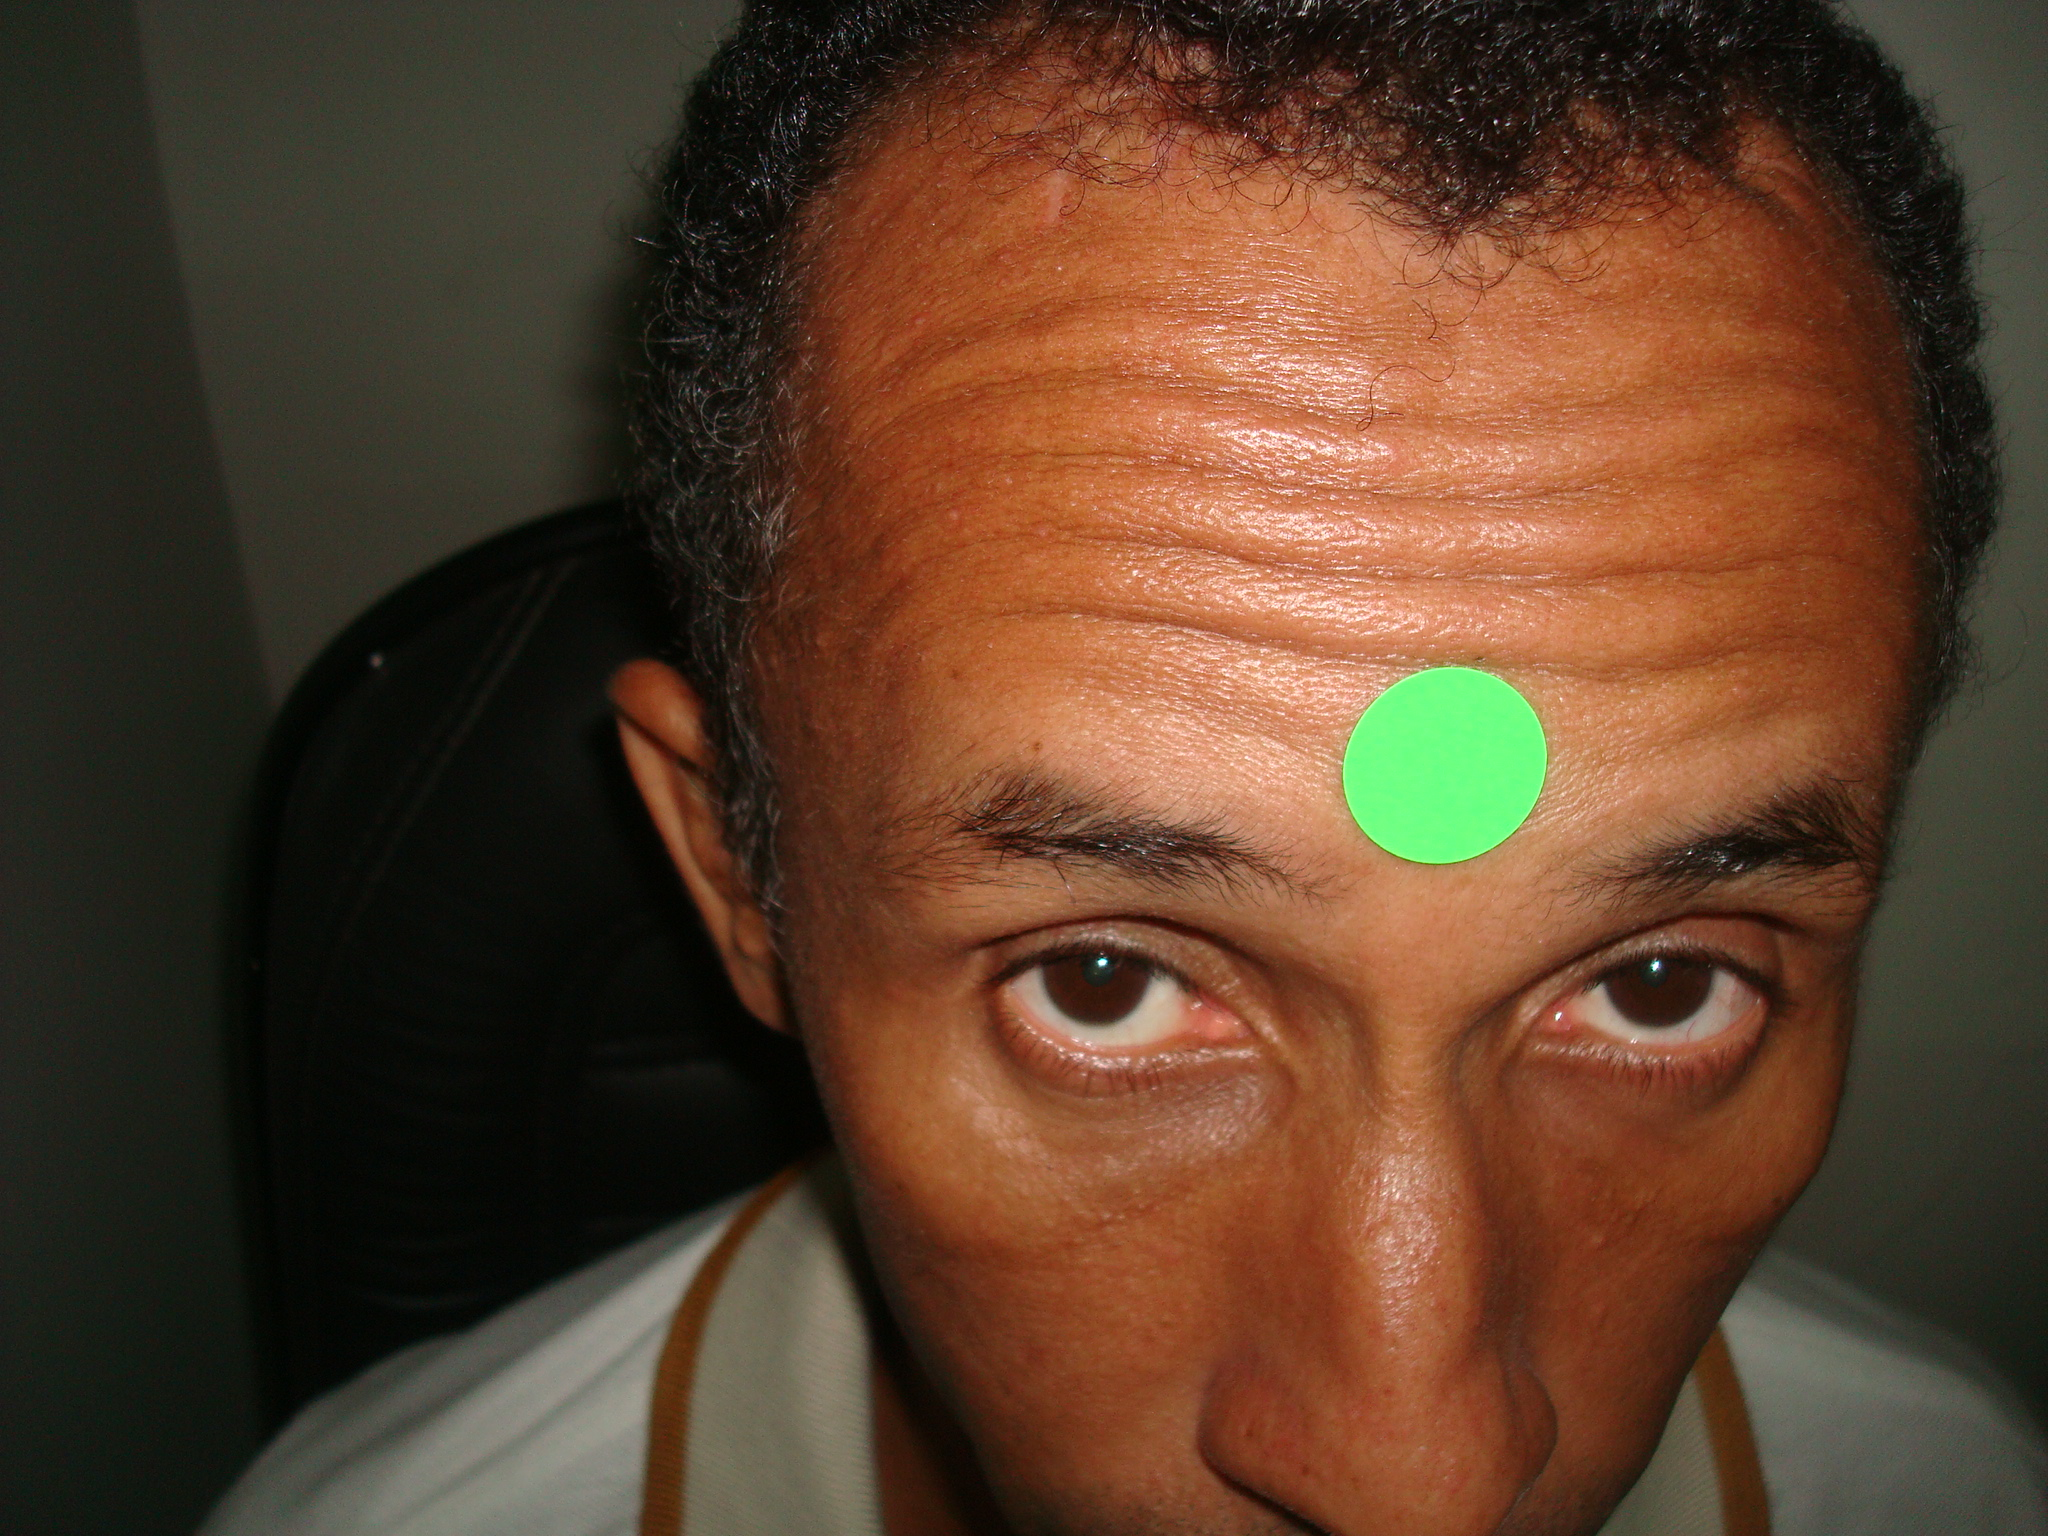flash: (1648, 960, 1664, 973), (1098, 957, 1109, 968)
limbo: (1601, 925, 1711, 1025), (1048, 923, 1147, 1020)
